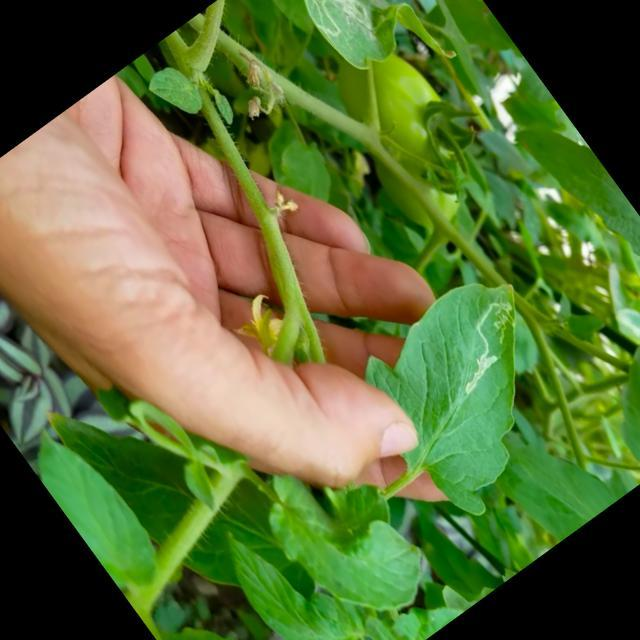Tomato healthy leaf: (244, 431, 444, 640), (17, 413, 175, 600), (512, 100, 640, 294), (208, 500, 385, 640), (476, 396, 630, 552), (580, 326, 640, 476)
Tomato target spot leaf: (336, 252, 613, 534), (268, 0, 459, 115)
